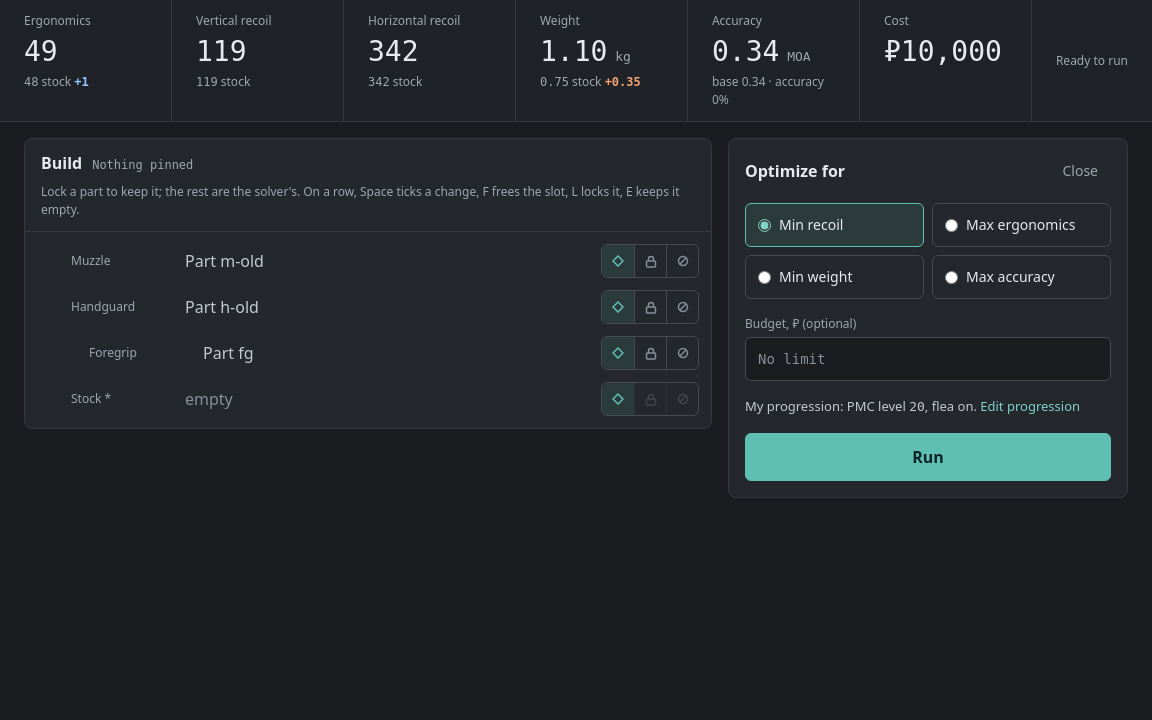
Test: OptimizeWorkbench › ticks show what Apply does › unticking a parent change unticks the changes that need it, and counts what lands
Step 1. Click the button "Run" → (928, 456), box [745, 432, 1111, 480]
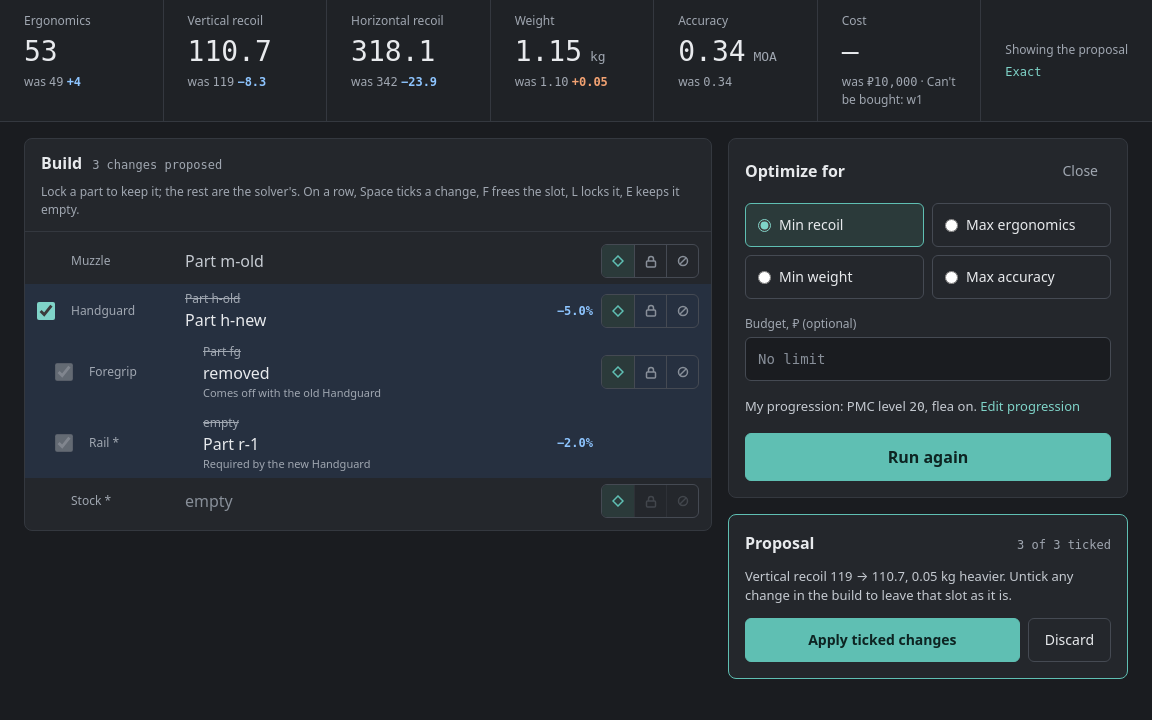
Now the element "Proposal" is shown, box [728, 514, 1128, 678]
Step 2. Press Space in the list item "Handguard Part h-old Part h-new −5.0%", box [25, 284, 711, 337]
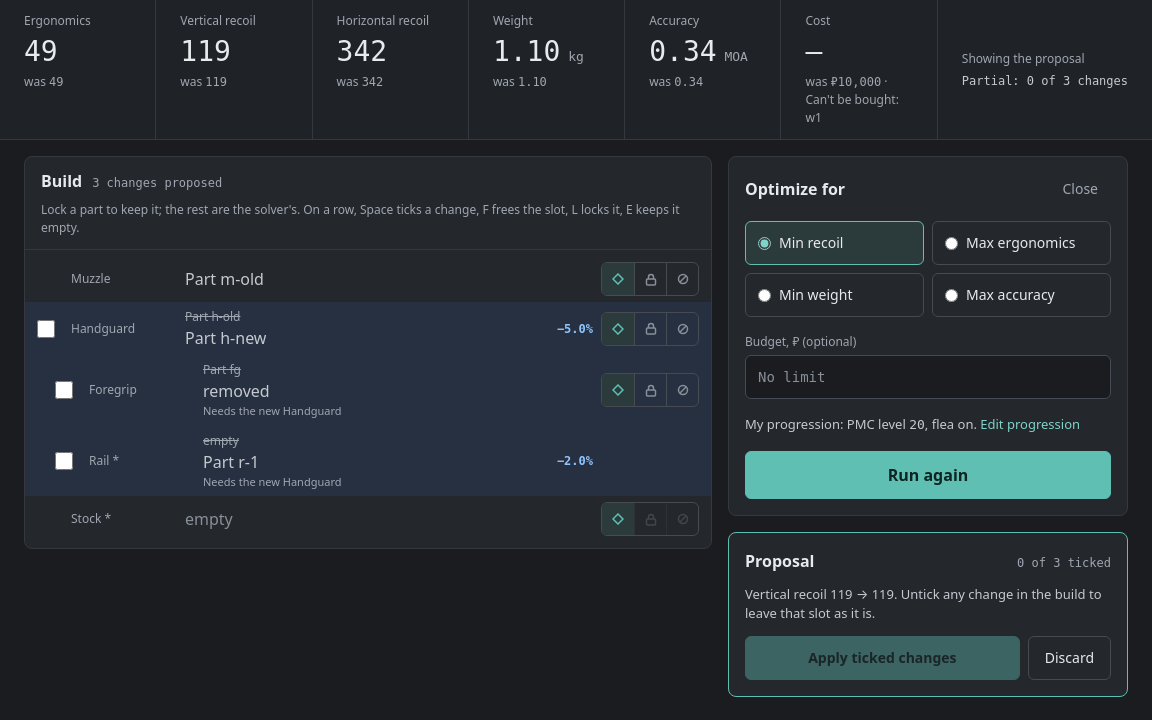
Now the text "0 of 3 ticked" is shown, box [1017, 554, 1111, 572]
Now the text "Partial: 0 of 3 changes" is shown, box [962, 72, 1128, 90]
Now the button "Apply ticked changes" is disabled, box [745, 636, 1020, 680]
